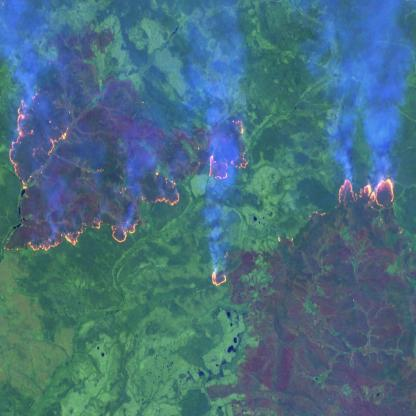fire: (24, 173, 186, 271), (4, 82, 66, 192), (202, 107, 264, 193), (330, 166, 402, 219), (202, 260, 233, 296)
